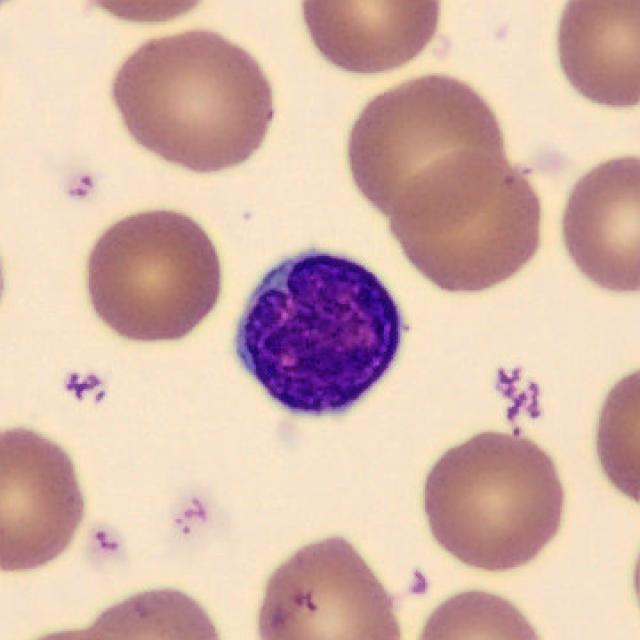Linfocito: (236, 251, 404, 416)
